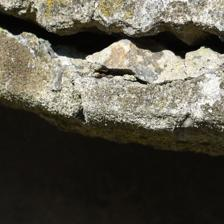Crack: (2, 4, 219, 60)
